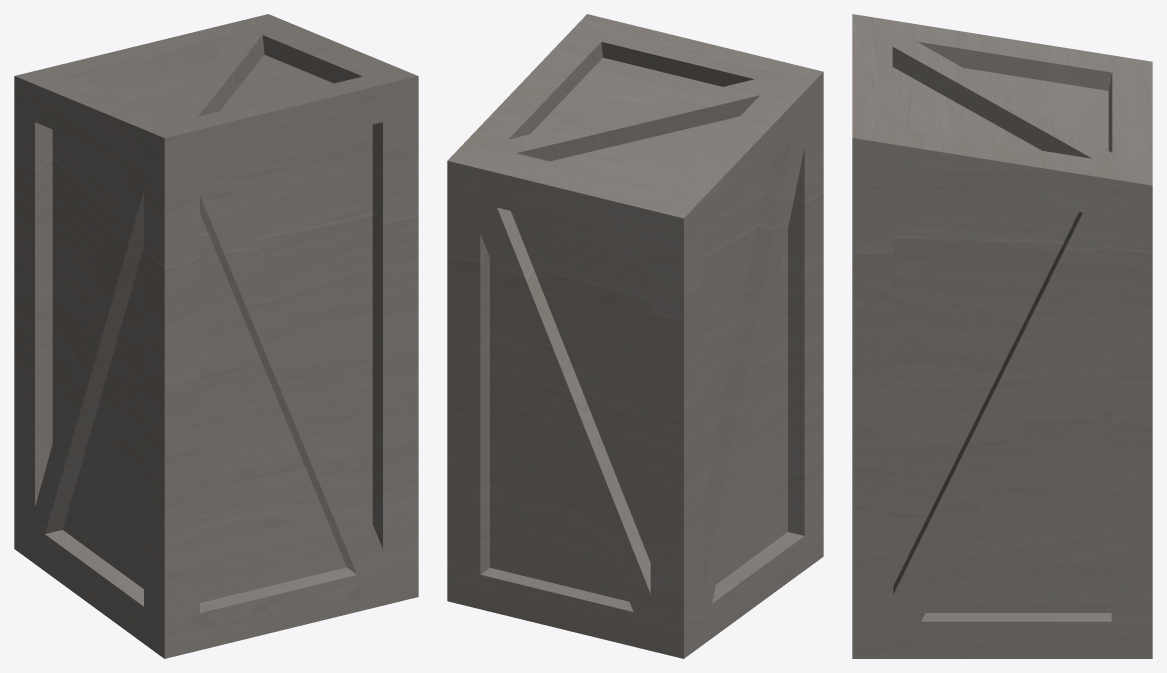
Rendered from Crate5.fbx.
The picture shows the model from 3 angles, left to right: view 1: azimuth 30°, elevation 25°; view 2: azimuth 150°, elevation 25°; view 3: azimuth 270°, elevation 25°; orthographic projection. The views are drawn at different scales.
Parts seen in each view (by area): view 1: pCube3; view 2: pCube3; view 3: pCube3.
Part boxes in pixels (x1,y1,x2,y2): pCube3: (14,14,418,658); pCube3: (447,14,823,658); pCube3: (852,14,1152,658).
Bounding box in the file's own units: 70.77 × 139 × 72.47.
